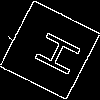H: (25, 25, 83, 78)
